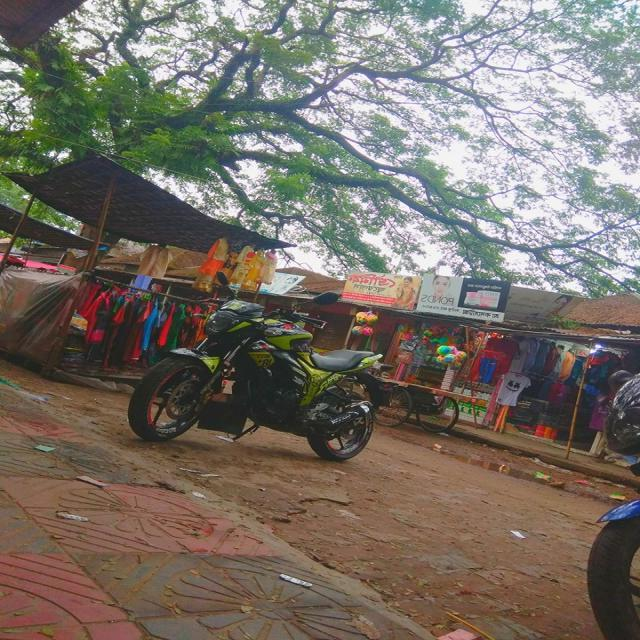Motorbike: (117, 291, 381, 458)
